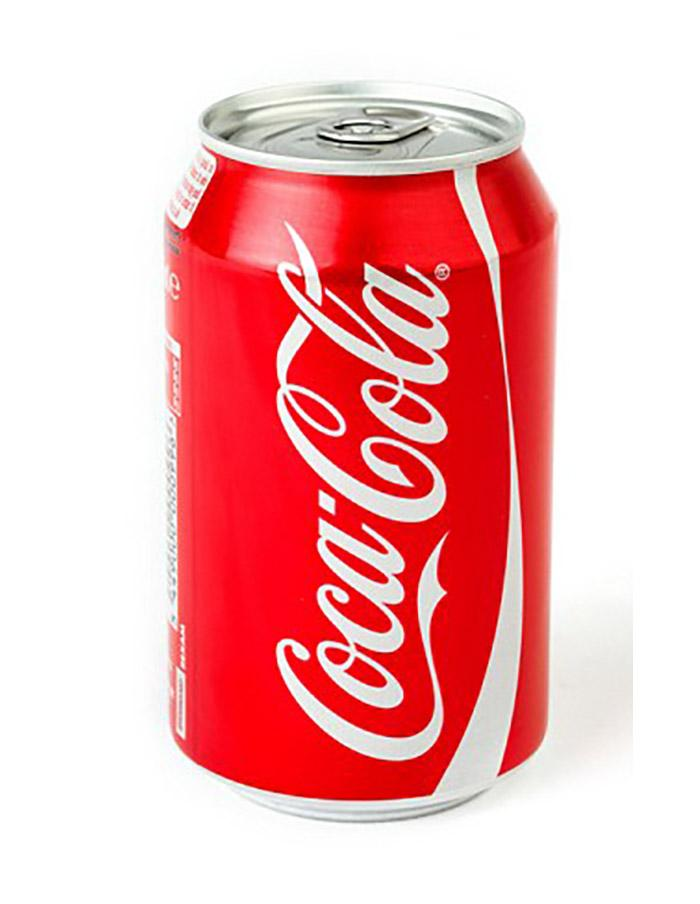cylinder: (164, 79, 559, 818)
